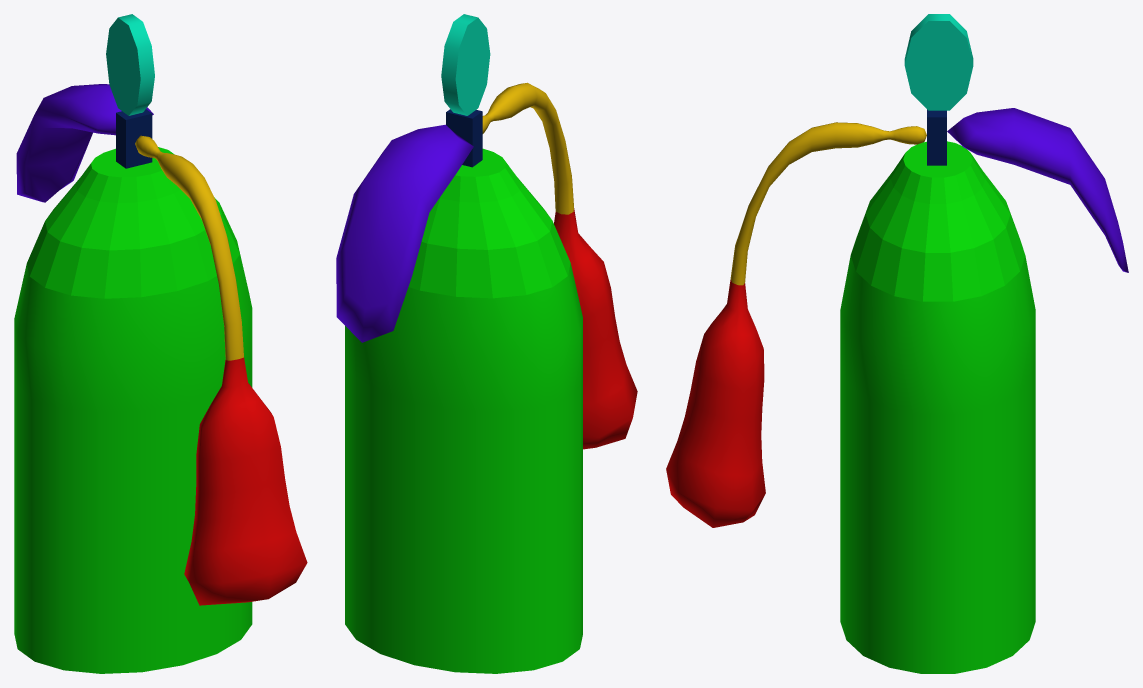
Rendered from SM Fire Extinguisher.fbx.
3 views of the same model, side by side, from view 1: azimuth 30°, elevation 25°; view 2: azimuth 150°, elevation 25°; view 3: azimuth 270°, elevation 25° (orthographic).
Parts seen in each view (by area): view 1: SM Fire Extinguisher; view 2: SM Fire Extinguisher; view 3: SM Fire Extinguisher.
Boxes of the visible parts, x1,y1,x2,y2 form: SM Fire Extinguisher: (14, 14, 307, 673); SM Fire Extinguisher: (336, 14, 637, 673); SM Fire Extinguisher: (666, 14, 1128, 673).
Bounding box in the file's own units: 9.99 × 27.14 × 18.86.
